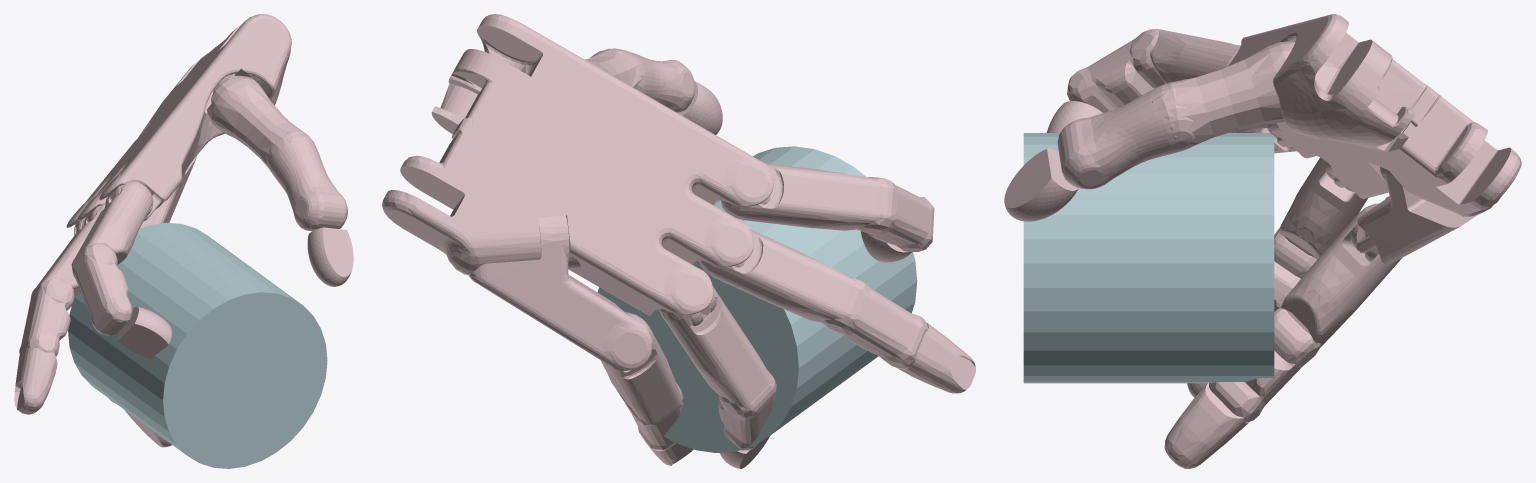
The model's file is grasp_9.glb.
The picture shows the model from 3 angles, left to right: view 1: azimuth 30°, elevation 25°; view 2: azimuth 150°, elevation 25°; view 3: azimuth 270°, elevation 25°; orthographic projection. The views are drawn at different scales.
Parts seen in each view (by area): view 1: world; view 2: world; view 3: world.
Part boxes in pixels (x1,y1,x2,y2): world: (14, 14, 353, 468); world: (382, 14, 975, 468); world: (1004, 14, 1521, 468).
Size of the model in its own units: 0.1665 by 0.1769 by 0.1653.
